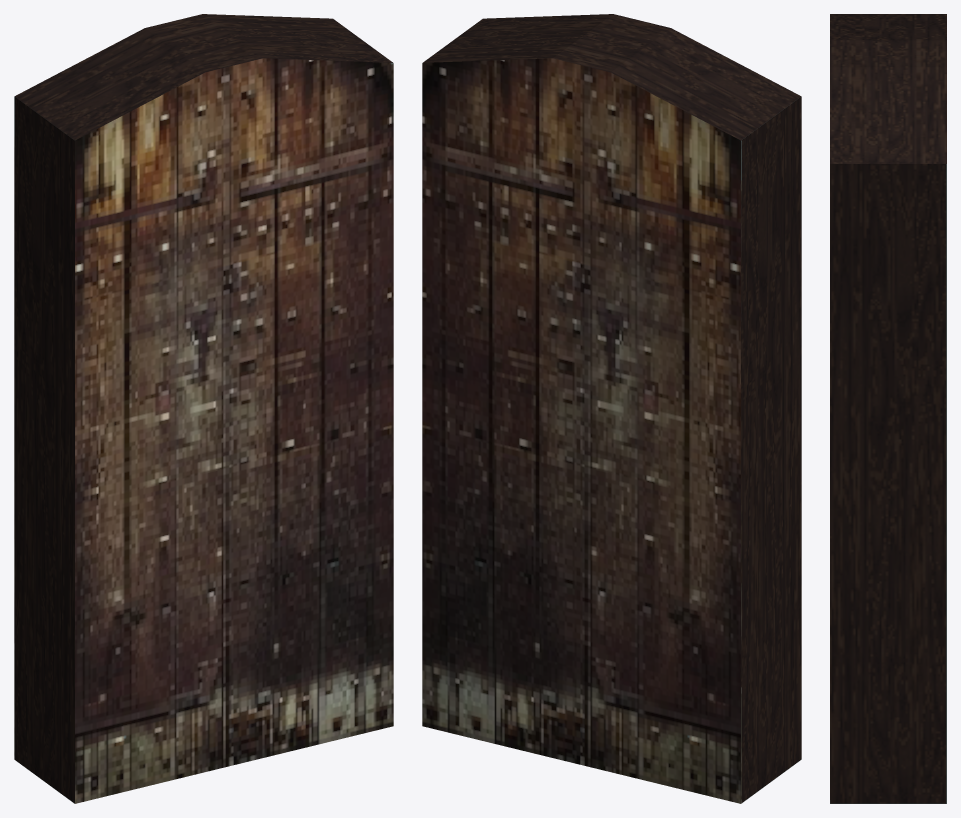
The model's file is DungeonExitDoor.fbx.
3 views of the same model, side by side, from view 1: azimuth 30°, elevation 25°; view 2: azimuth 150°, elevation 25°; view 3: azimuth 270°, elevation 25° (orthographic). The views are drawn at different scales.
Visible parts, largest first — view 1: Door.001; view 2: Door.001; view 3: Door.001.
Boxes of the visible parts, x1=… form: Door.001: x1=14, y1=14, x2=393, y2=803; Door.001: x1=422, y1=14, x2=801, y2=803; Door.001: x1=830, y1=14, x2=946, y2=803.
Bounding box in the file's own units: 201 × 422 × 66.1.
